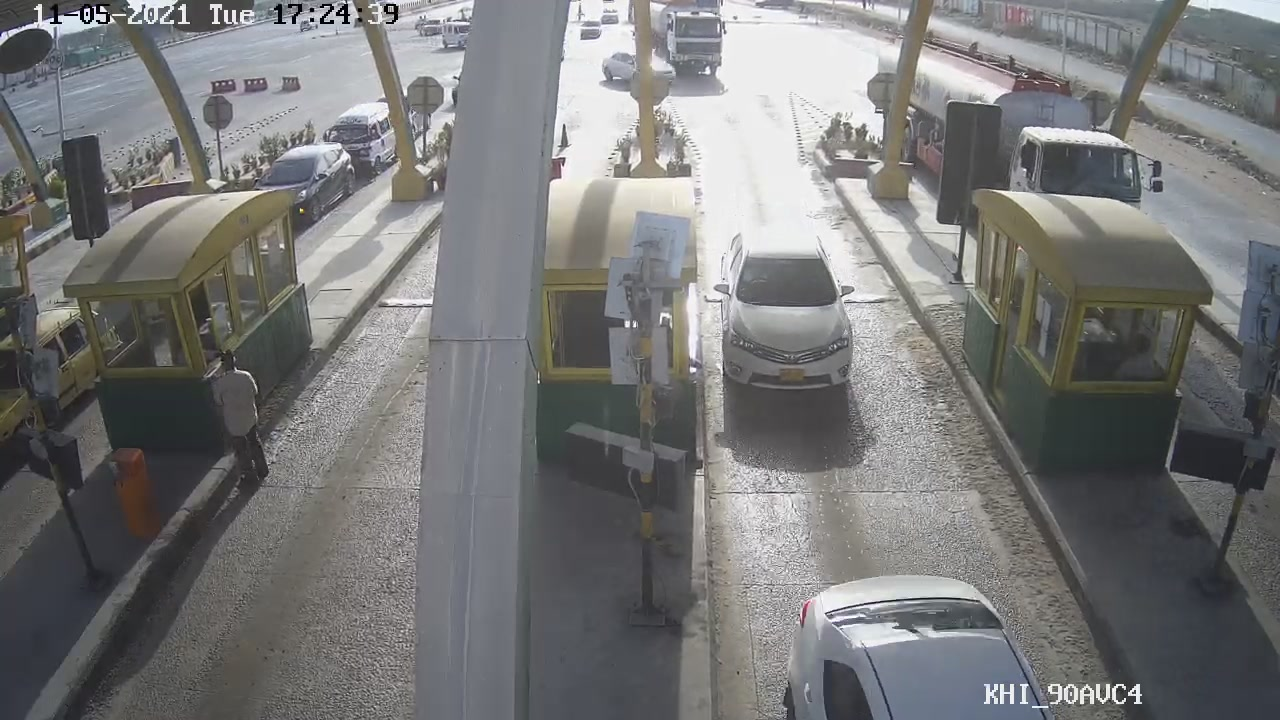F1: (711, 225, 866, 398)
